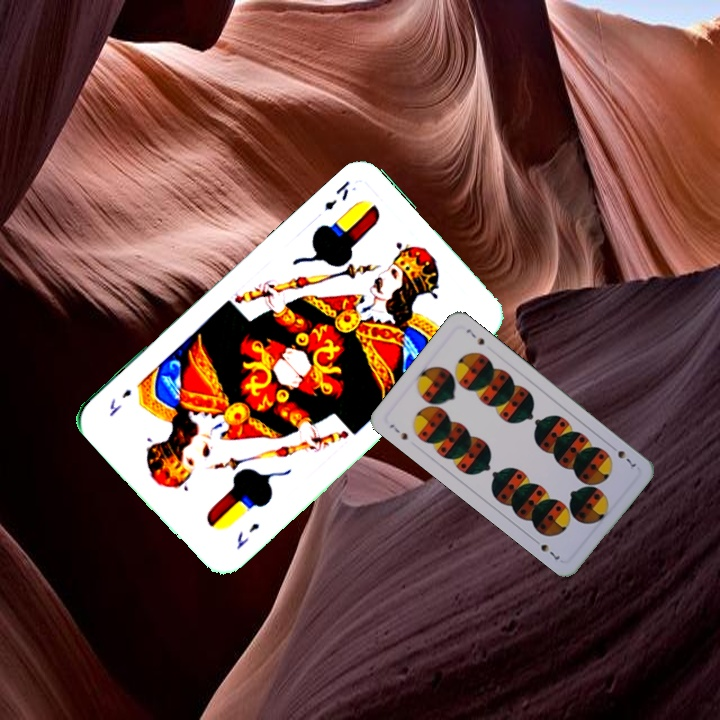EK: (320, 176, 352, 213), (231, 519, 263, 553)
S7: (606, 441, 639, 472), (385, 420, 410, 443)
